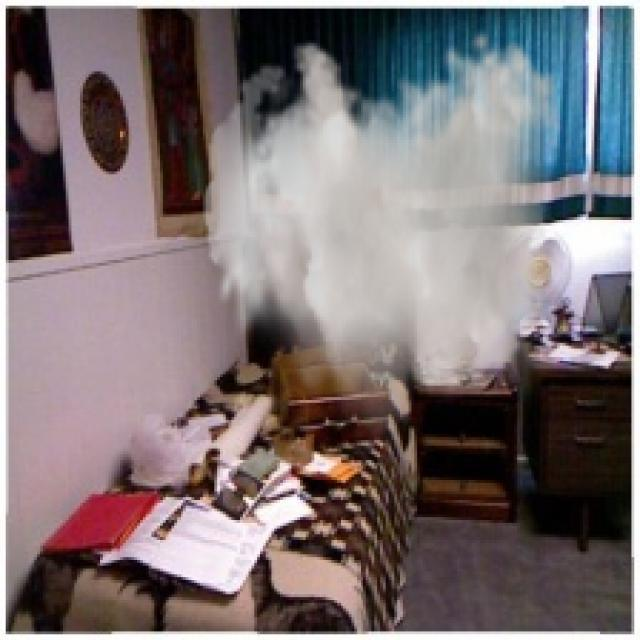Smoke: (203, 29, 563, 452)
